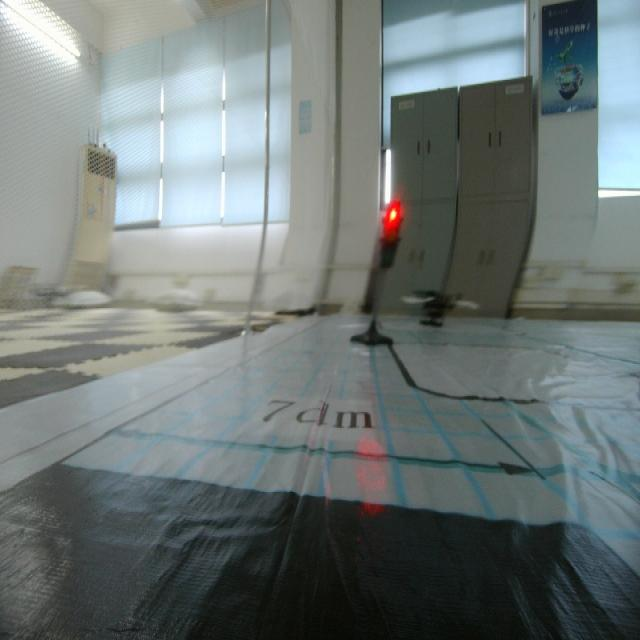red: (372, 199, 403, 273)
